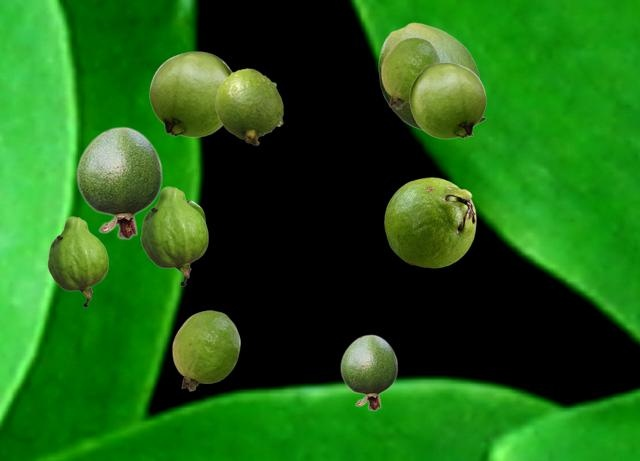guava: (378, 22, 485, 135), (76, 126, 162, 239), (384, 177, 475, 267), (149, 51, 232, 136), (140, 186, 207, 285), (409, 62, 485, 138), (47, 216, 107, 306), (172, 310, 239, 390), (215, 68, 282, 144), (340, 334, 397, 410), (381, 37, 440, 108), (187, 200, 204, 218)
